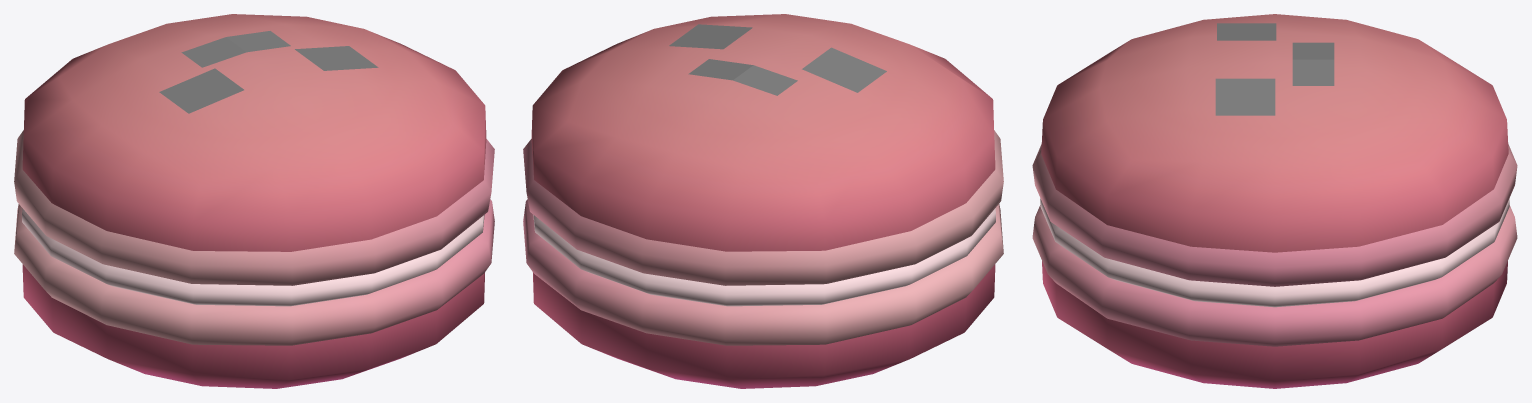
Rendered from macaron_pink_smile.fbx.
3 views of the same model, side by side, from view 1: azimuth 30°, elevation 25°; view 2: azimuth 150°, elevation 25°; view 3: azimuth 270°, elevation 25° (orthographic).
Parts seen in each view (by area): view 1: macaron_pink, smile; view 2: macaron_pink, smile; view 3: macaron_pink, smile.
Part boxes in pixels (x1,y1,x2,y2): macaron_pink: [14, 14, 494, 388]; smile: [159, 31, 378, 113]; macaron_pink: [523, 14, 1003, 388]; smile: [669, 24, 886, 95]; macaron_pink: [1032, 14, 1517, 388]; smile: [1215, 23, 1334, 115].
Size of the model in its own units: 18.89 by 18.89 by 12.1.
Materials: 2 (1 with a texture image).
